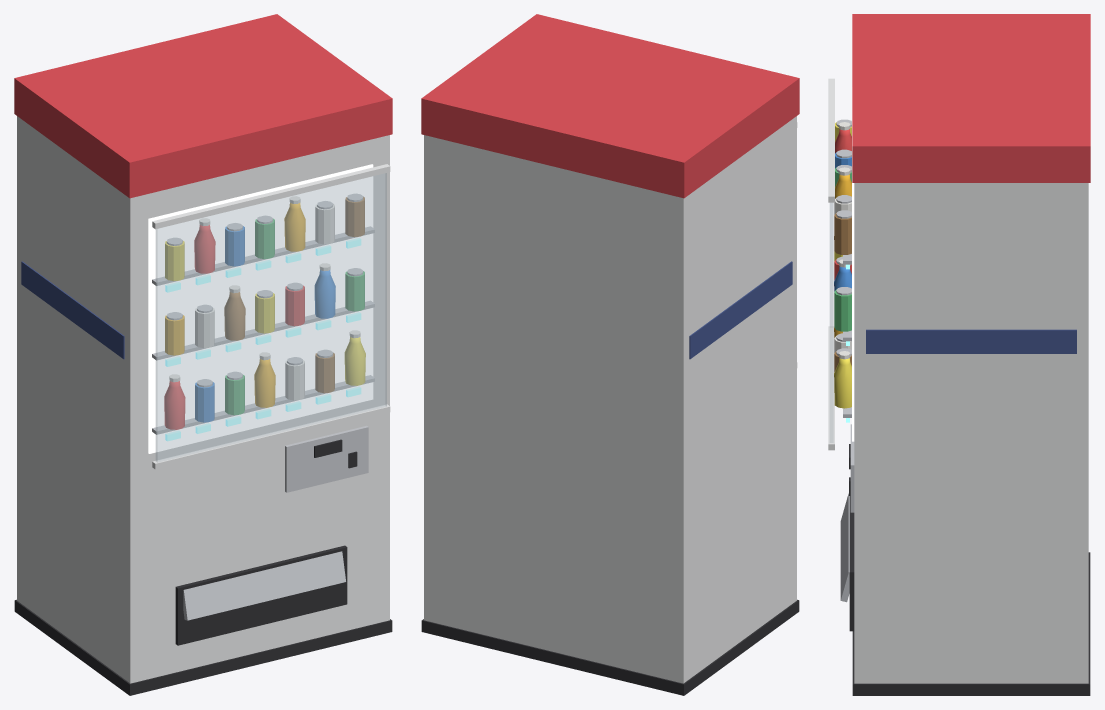
Rendered from jp_vending.glb.
3 renders of one model, left to right at view 1: azimuth 30°, elevation 25°; view 2: azimuth 150°, elevation 25°; view 3: azimuth 270°, elevation 25°, orthographic. The views are drawn at different scales.
Parts seen in each view (by area): view 1: jp_vending; view 2: jp_vending; view 3: jp_vending.
Boxes of the visible parts, box(x1,y1,x2,y2) form: jp_vending: box(14, 14, 392, 695); jp_vending: box(421, 14, 799, 695); jp_vending: box(828, 14, 1090, 695).
Bounding box in the file's own units: 0.962 × 1.87 × 0.806.
